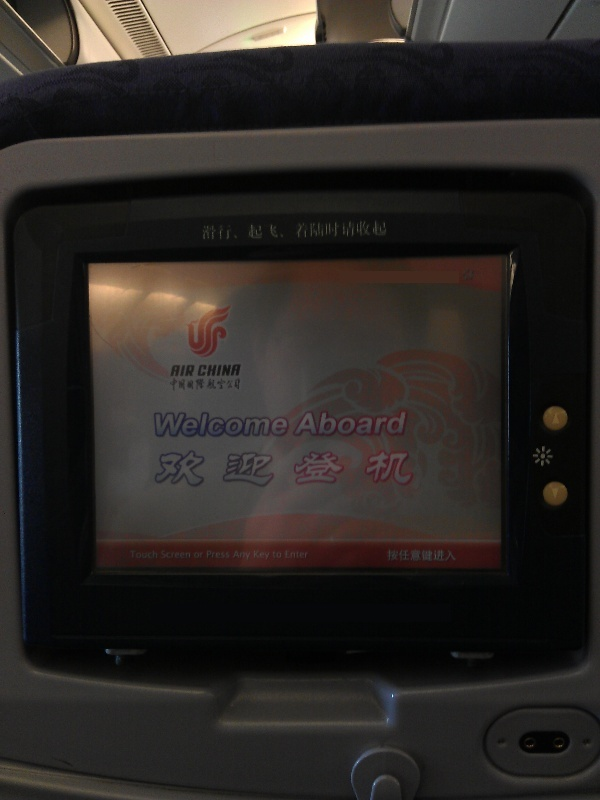text: (161, 451, 176, 487), (177, 451, 192, 487), (193, 451, 208, 487), (209, 451, 224, 487), (225, 451, 240, 487), (241, 451, 256, 487), (257, 451, 272, 487), (273, 451, 288, 487), (289, 451, 304, 487), (305, 451, 320, 487), (321, 451, 336, 487), (337, 451, 352, 487), (353, 451, 368, 487), (369, 451, 384, 487), (385, 451, 400, 487), (401, 451, 415, 487), (161, 411, 176, 437), (177, 411, 192, 437), (193, 411, 208, 437), (209, 411, 224, 437), (225, 411, 240, 437), (241, 411, 256, 437), (257, 411, 272, 437), (273, 411, 288, 437), (305, 412, 320, 436), (321, 412, 336, 436), (337, 412, 352, 436), (353, 412, 368, 436), (369, 412, 384, 436), (385, 412, 400, 436), (209, 219, 224, 241), (225, 219, 240, 241), (241, 219, 256, 241), (257, 219, 272, 241), (273, 219, 288, 241), (289, 219, 304, 241), (305, 219, 320, 241), (321, 219, 336, 241), (337, 219, 352, 241), (353, 219, 368, 241), (369, 219, 384, 241), (293, 412, 304, 436), (177, 376, 192, 393), (193, 376, 208, 393), (209, 376, 224, 393), (225, 376, 240, 393), (225, 363, 241, 378), (209, 363, 224, 378), (177, 364, 192, 378), (401, 549, 416, 562), (417, 549, 432, 562), (433, 549, 448, 562), (153, 411, 160, 437), (155, 451, 160, 487), (387, 549, 400, 562), (201, 219, 208, 241), (198, 363, 208, 378), (257, 551, 271, 561), (289, 550, 304, 559), (130, 550, 144, 559), (145, 550, 159, 559), (401, 412, 406, 436), (161, 551, 176, 559), (209, 551, 224, 559), (273, 551, 288, 559), (177, 551, 191, 559), (449, 549, 457, 562), (170, 376, 176, 393), (241, 551, 251, 561), (194, 552, 208, 559), (170, 364, 176, 378), (233, 551, 240, 561), (385, 219, 388, 241), (305, 550, 310, 559), (193, 364, 196, 378), (225, 551, 230, 559), (289, 411, 290, 437), (254, 551, 256, 561), (286, 550, 288, 559), (241, 376, 242, 393), (207, 551, 208, 559)
